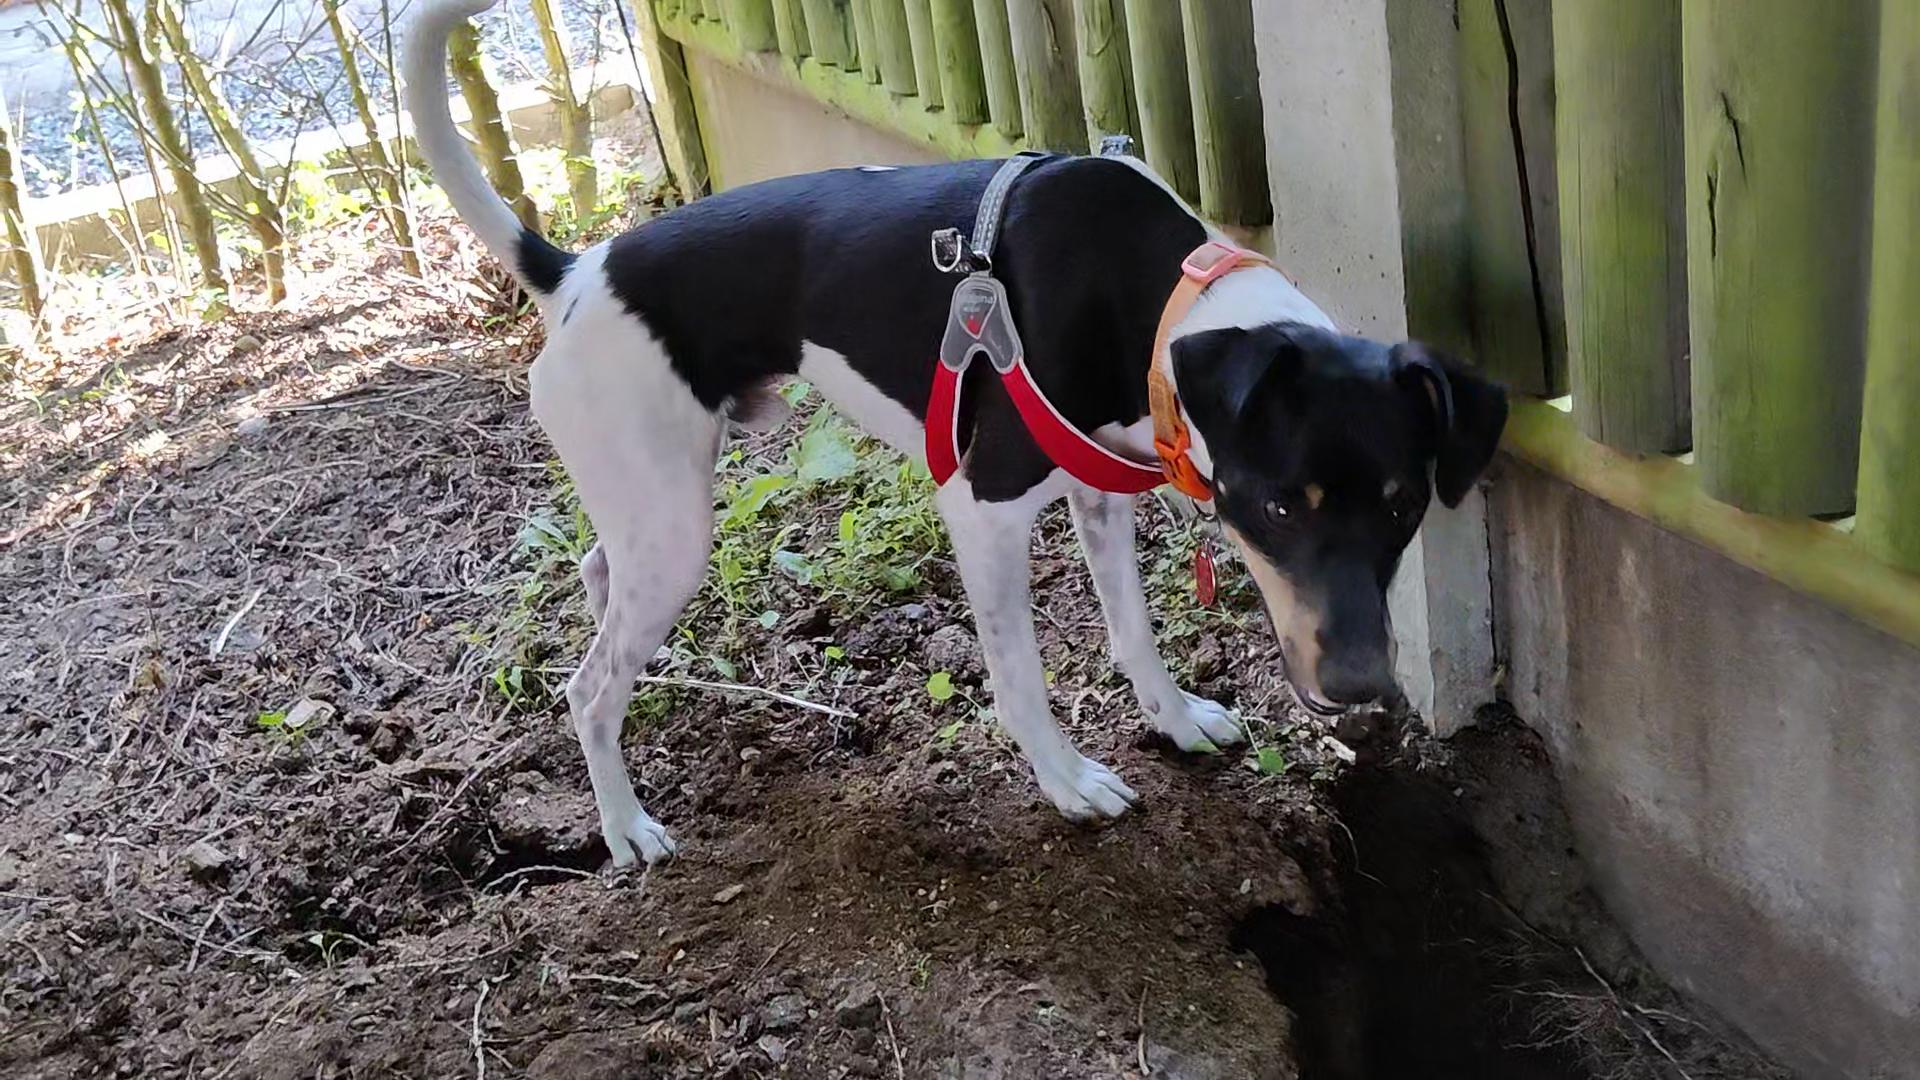Dog: (378, 0, 1524, 882)
